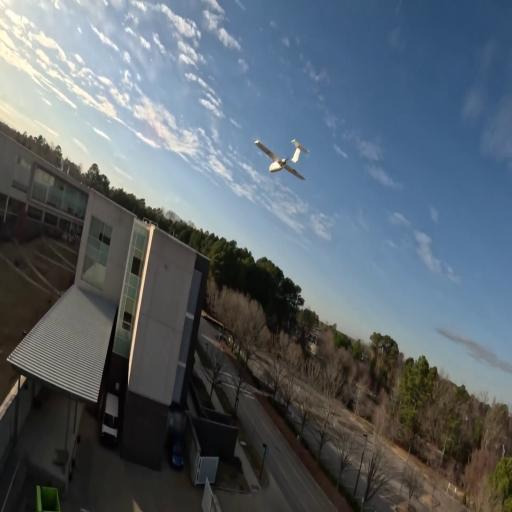uav: (251, 134, 306, 183)
